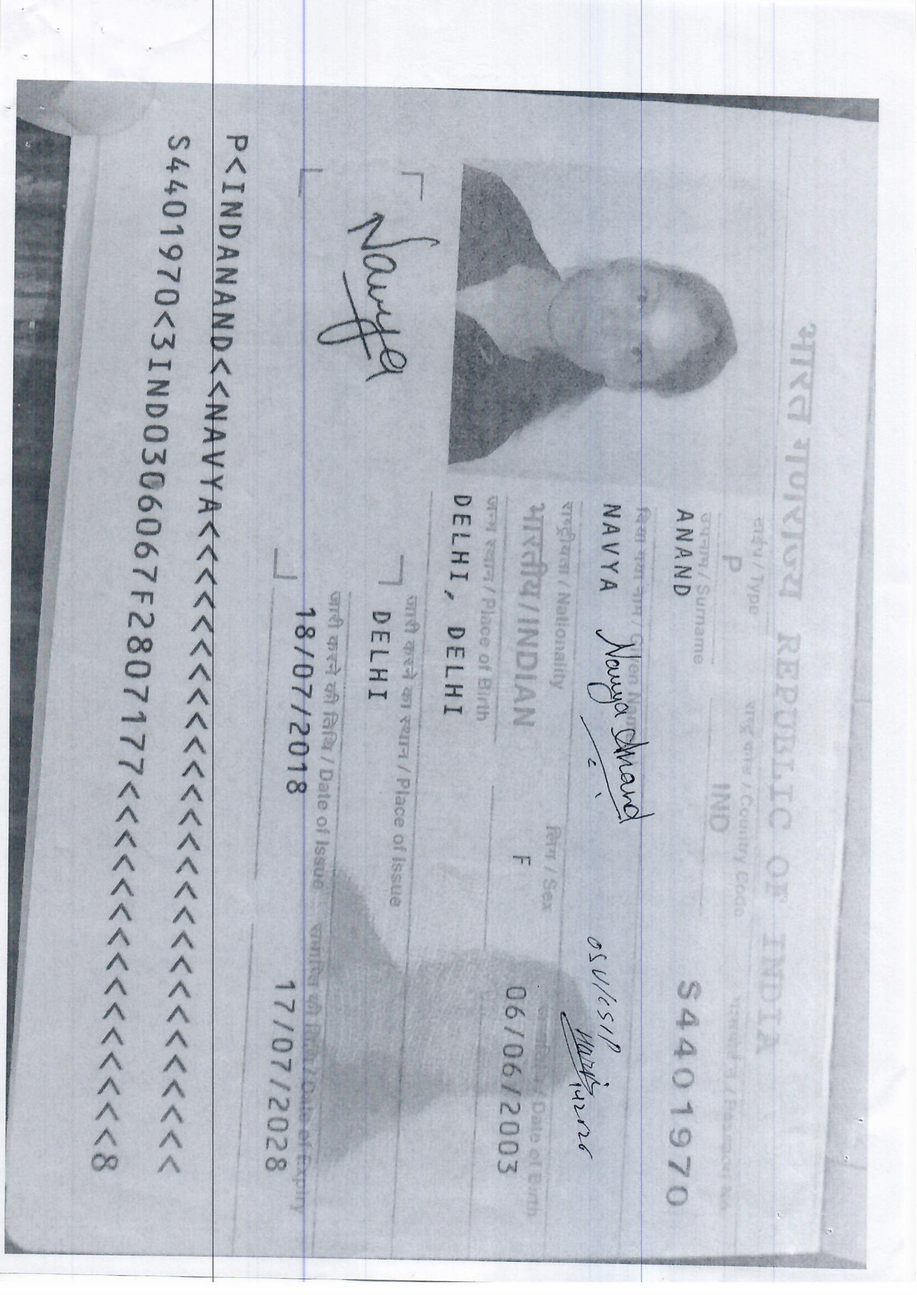DOB: (498, 980, 526, 1189)
country_code: (695, 747, 747, 863)
date_of_expiry: (235, 947, 303, 1177)
date_of_issue: (280, 577, 339, 804)
details: (97, 98, 259, 1195)
name: (591, 468, 707, 656)
nationality: (506, 511, 549, 734)
passport_no: (670, 967, 717, 1286)
photo: (462, 177, 764, 449)
place_of_birth: (429, 471, 480, 726)
place_of_issue: (354, 581, 407, 719)
sex: (470, 800, 560, 911)
sign: (335, 197, 417, 393)
type: (712, 534, 756, 608)
